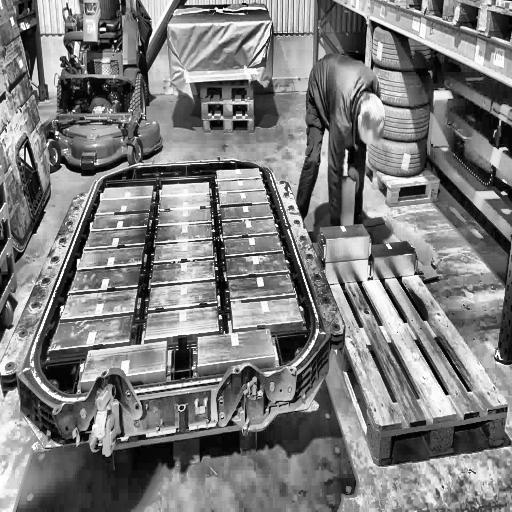b_casing: (0, 155, 347, 420)
battery_module: (77, 343, 169, 390), (192, 328, 279, 376), (49, 314, 136, 352), (141, 303, 223, 343), (228, 298, 306, 334), (57, 288, 142, 318), (67, 265, 145, 295), (146, 280, 221, 311), (317, 223, 372, 262), (149, 260, 219, 290), (371, 238, 419, 280), (227, 273, 296, 302), (222, 251, 291, 280), (220, 233, 286, 259), (78, 247, 147, 271), (151, 241, 218, 264), (83, 228, 151, 250), (220, 217, 279, 241), (152, 224, 217, 245), (154, 207, 215, 227), (218, 204, 274, 225), (90, 214, 151, 232), (325, 261, 371, 284), (94, 197, 154, 214), (215, 190, 270, 208), (157, 193, 214, 210), (216, 178, 267, 195), (159, 181, 212, 197), (101, 185, 156, 199), (215, 168, 264, 183)
